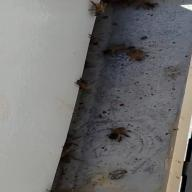Bee: (106, 123, 138, 148)
